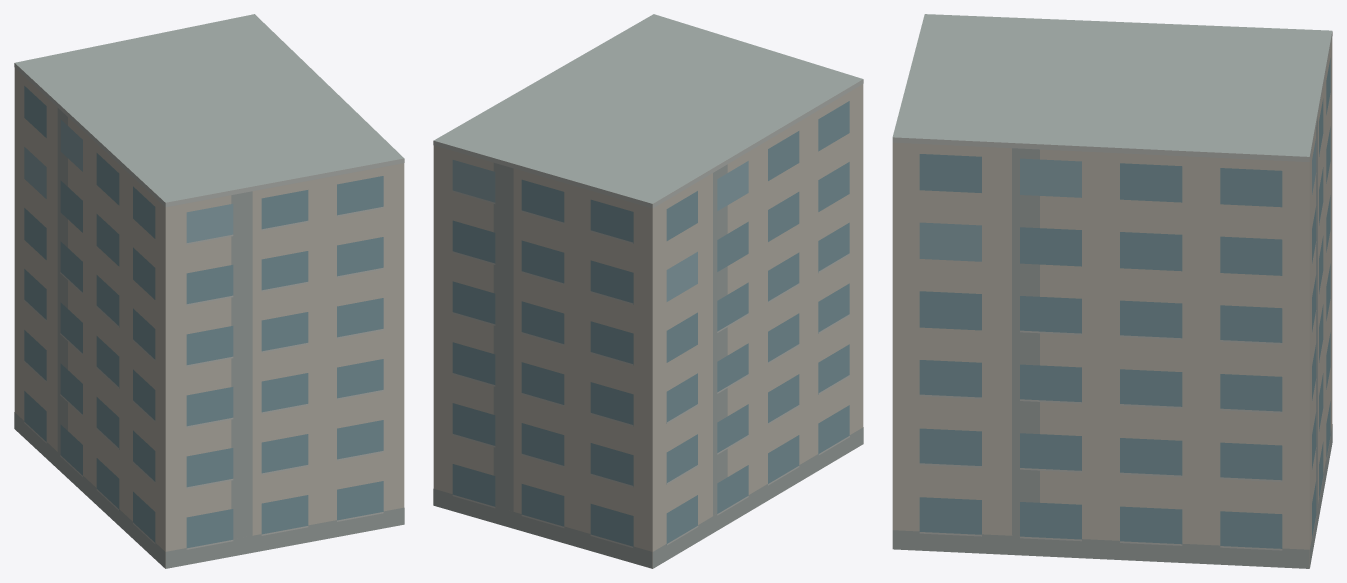
The model's file is survey-upis-32564250.glb.
The picture shows the model from 3 angles, left to right: view 1: azimuth 30°, elevation 25°; view 2: azimuth 150°, elevation 25°; view 3: azimuth 270°, elevation 25°; orthographic projection. The views are drawn at different scales.
Parts seen in each view (by area): view 1: survey-upis-32564250.tmp; view 2: survey-upis-32564250.tmp; view 3: survey-upis-32564250.tmp.
Part boxes in pixels (x1=…): survey-upis-32564250.tmp: x1=14, y1=14, x2=404, y2=568; survey-upis-32564250.tmp: x1=433, y1=14, x2=863, y2=568; survey-upis-32564250.tmp: x1=892, y1=14, x2=1332, y2=568.
Bounding box in the file's own units: 14.29 × 19.2 × 18.59.
